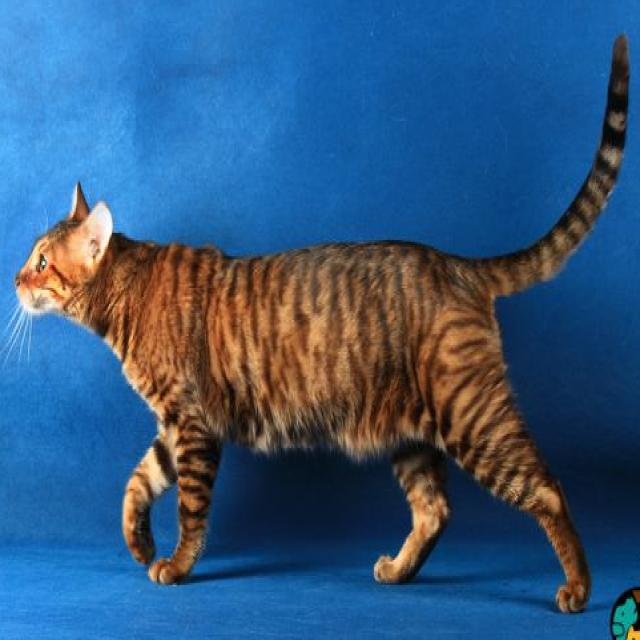Toyger: (11, 31, 634, 617)
